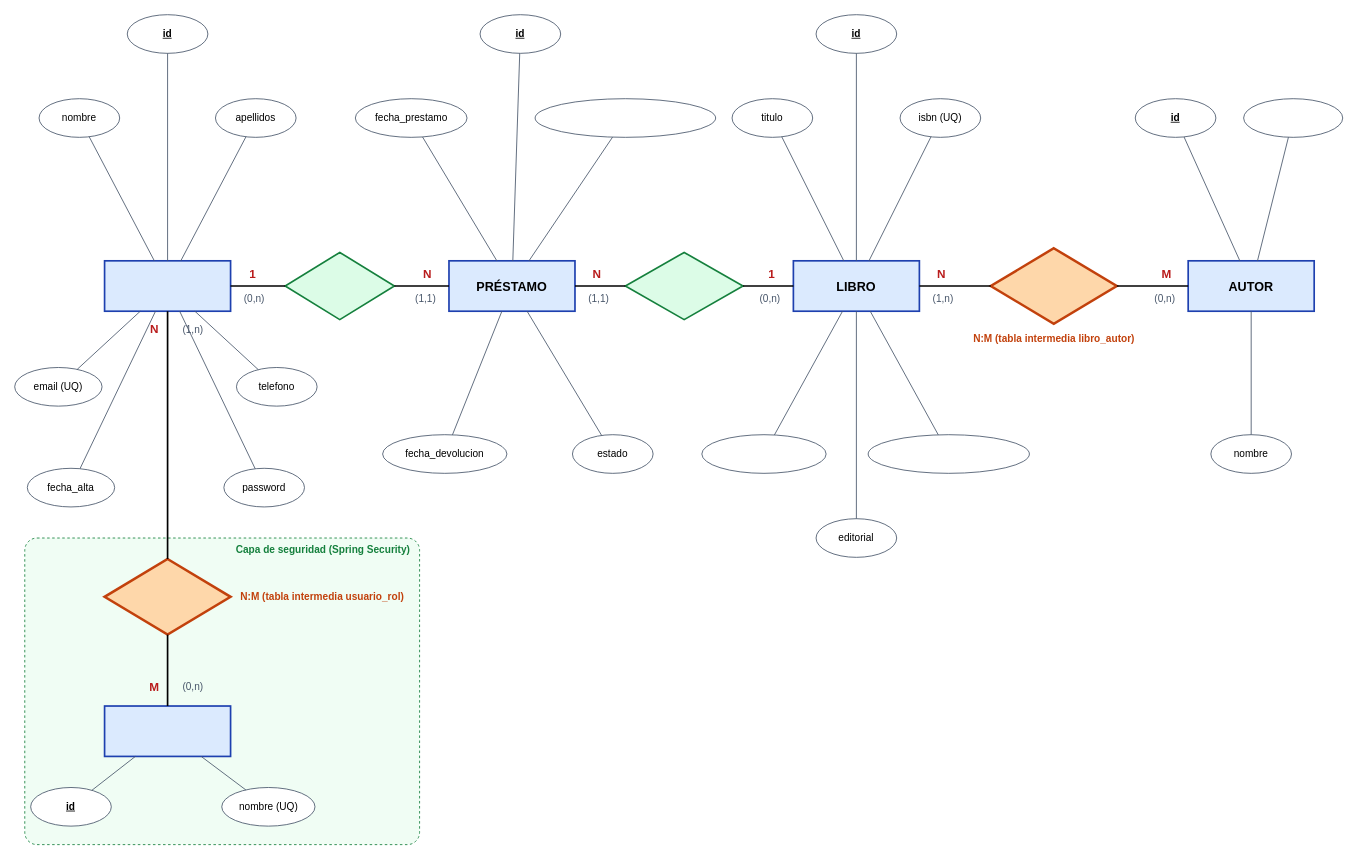
This 1357x859 diagram has some shape labels left out. Here are the shapes that lost their labels. From the top down, the centre of each, then its label:
At (x=625, y=117): "fecha_devolucion_prevista".
At (x=1293, y=117): "nacionalidad".
At (x=167, y=286): "USUARIO".
At (x=339, y=285): "realiza".
At (x=683, y=285): "se presta en".
At (x=1053, y=286): "escrito por".
At (x=763, y=453): "anio_publicacion".
At (x=948, y=453): "ejemplares_disponibles".
At (x=167, y=596): "tiene rol".
At (x=167, y=731): "ROL".
